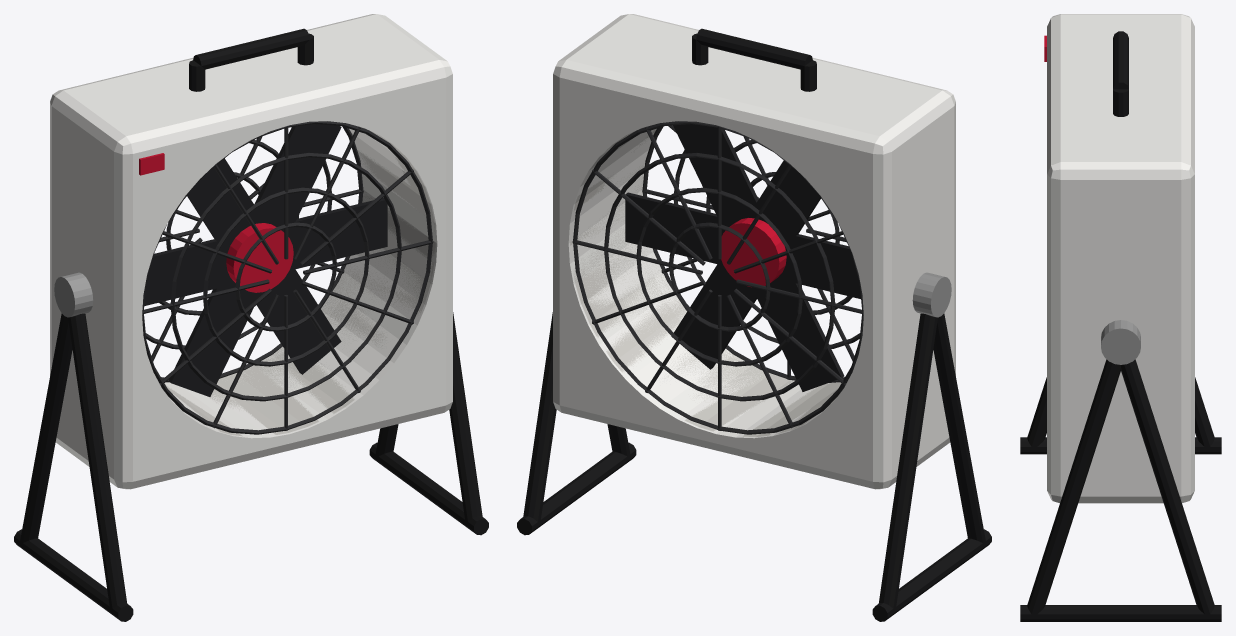
File: ventilator.glb
The picture shows the model from 3 angles, left to right: view 1: azimuth 30°, elevation 25°; view 2: azimuth 150°, elevation 25°; view 3: azimuth 270°, elevation 25°; orthographic projection. The views are drawn at different scales.
Visible parts, largest first — view 1: romp, wieken; view 2: romp, wieken; view 3: romp.
Part boxes in pixels (<box>): romp: <box>14,14,488,621</box>; wieken: <box>144,124,387,396</box>; romp: <box>517,14,991,621</box>; wieken: <box>625,124,860,391</box>; romp: <box>1020,14,1221,621</box>.
Bounding box in the file's own units: 0.62 × 0.7894 × 0.3.
